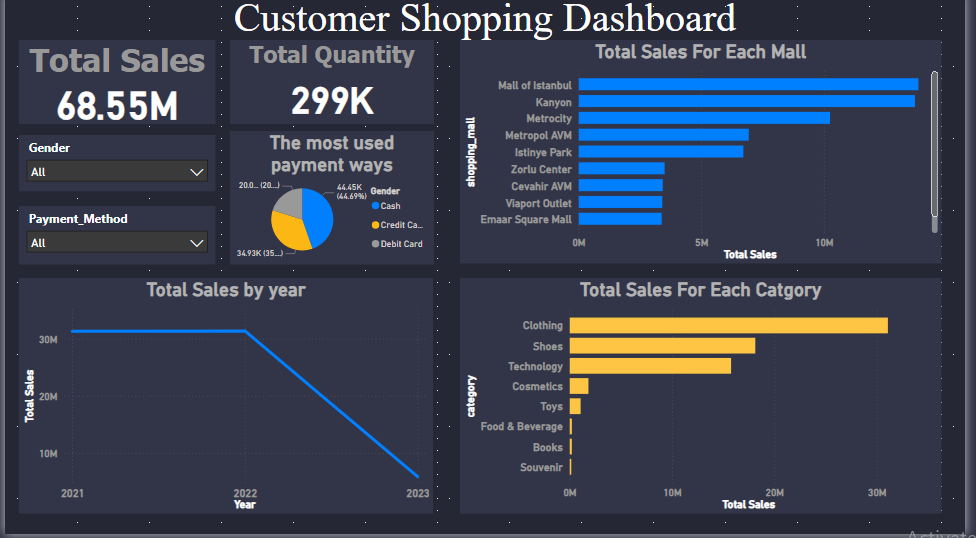

The page's visual inventory and layout, read from the dashboard file:
{"tool":"powerbi","page":{"name":"Page 1","canvas":[1280,720],"ordinal":0},"visuals":[{"type":"card","title":"Total Sales","fields":{"Values":["Sum(customer_shopping_data[1].price)"]},"box":[19.1,61.7,261.6,111.7],"z":0},{"type":"clusteredBarChart","title":"Total Sales For Each Catgory","fields":{"Category":["customer_shopping_data[1].category"],"Y":["Sum(customer_shopping_data[1].price)"]},"box":[606.9,379.1,642.1,314.4],"z":1000},{"type":"pieChart","title":"The most used payment ways","fields":{"Category":["customer_shopping_data[1].payment_method"],"Y":["CountNonNull(customer_shopping_data[1].payment_method)"]},"box":[299.8,182.2,271.8,177.8],"z":2000},{"type":"barChart","title":"Total Sales For Each Mall","fields":{"Category":["customer_shopping_data[1].shopping_mall"],"Y":["Sum(customer_shopping_data[1].price)"]},"box":[606.9,61.7,642.1,298.3],"z":3000},{"type":"lineChart","title":"Total Sales by year","fields":{"Category":["customer_shopping_data[1].invoice_date.Variation.Date Hierarchy.Year"],"Y":["Sum(customer_shopping_data[1].price)"]},"box":[19.1,379.1,552.5,314.4],"z":4000},{"type":"slicer","fields":{"Values":["customer_shopping_data[1].gender"]},"box":[19.1,188.1,261.6,74.9],"z":6000},{"type":"slicer","fields":{"Values":["customer_shopping_data[1].payment_method"]},"box":[19.1,282.1,261.6,77.9],"z":7000},{"type":"card","title":"Total Quantity","fields":{"Values":["Sum(customer_shopping_data[1].quantity)"]},"box":[299.8,61.7,271.8,111.7],"z":8000},{"type":"shape","title":"Customer Shopping Dashboard","box":[0,0,1279.8,61.7],"z":9000}]}

Visuals, with their boxes in screenshot pixels (x1, y1, x2, y2), scaled from the page's 1280x720 canvas onto the 976x538 screenshot:
"Total Sales" card: bbox=(15, 46, 214, 130)
"Total Sales For Each Catgory" clusteredBarChart: bbox=(463, 283, 952, 518)
"The most used payment ways" pieChart: bbox=(229, 136, 436, 269)
"Total Sales For Each Mall" barChart: bbox=(463, 46, 952, 269)
"Total Sales by year" lineChart: bbox=(15, 283, 436, 518)
slicer - customer_shopping_data[1].gender: bbox=(15, 141, 214, 197)
slicer - customer_shopping_data[1].payment_method: bbox=(15, 211, 214, 269)
"Total Quantity" card: bbox=(229, 46, 436, 130)
"Customer Shopping Dashboard" shape: bbox=(0, 0, 975, 46)
